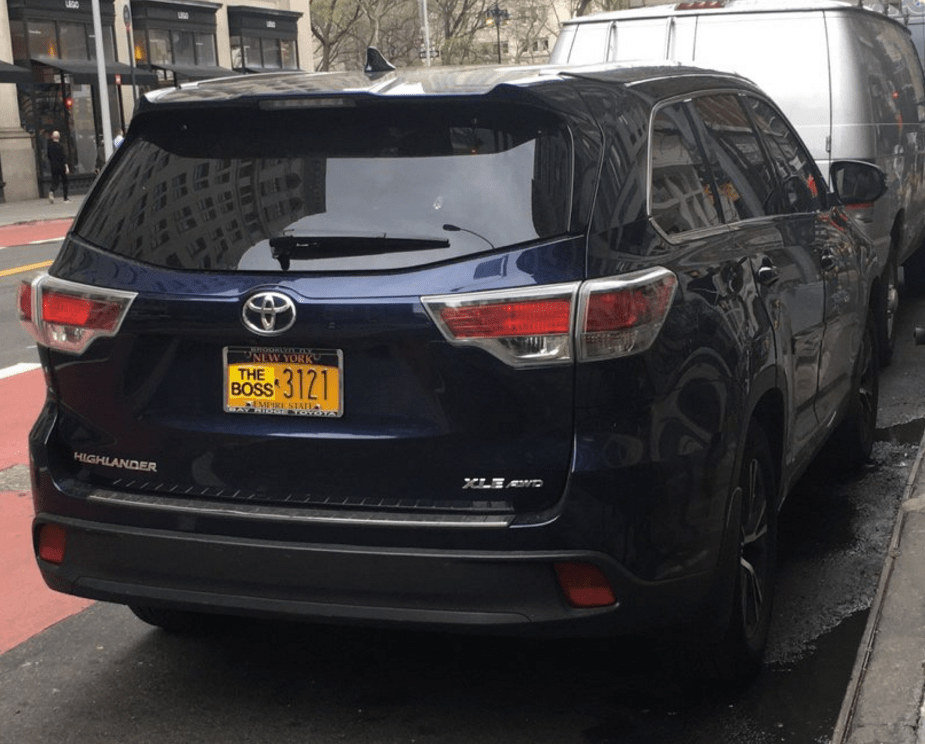license plate: (215, 342, 351, 426)
